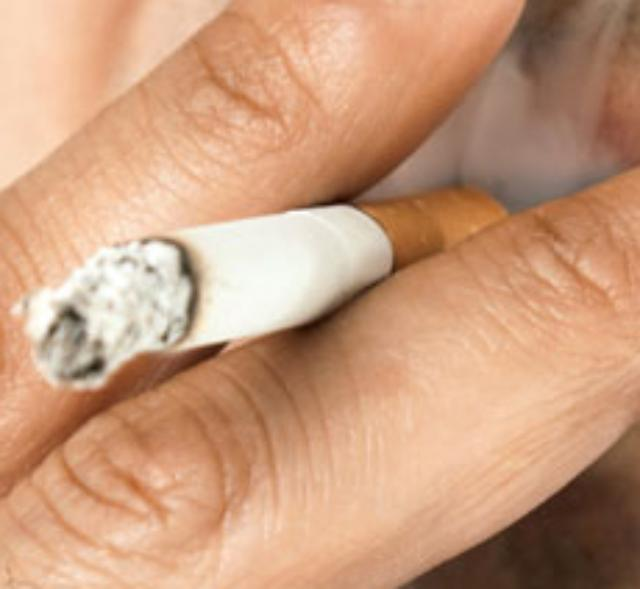Cigarette: (23, 186, 513, 393)
